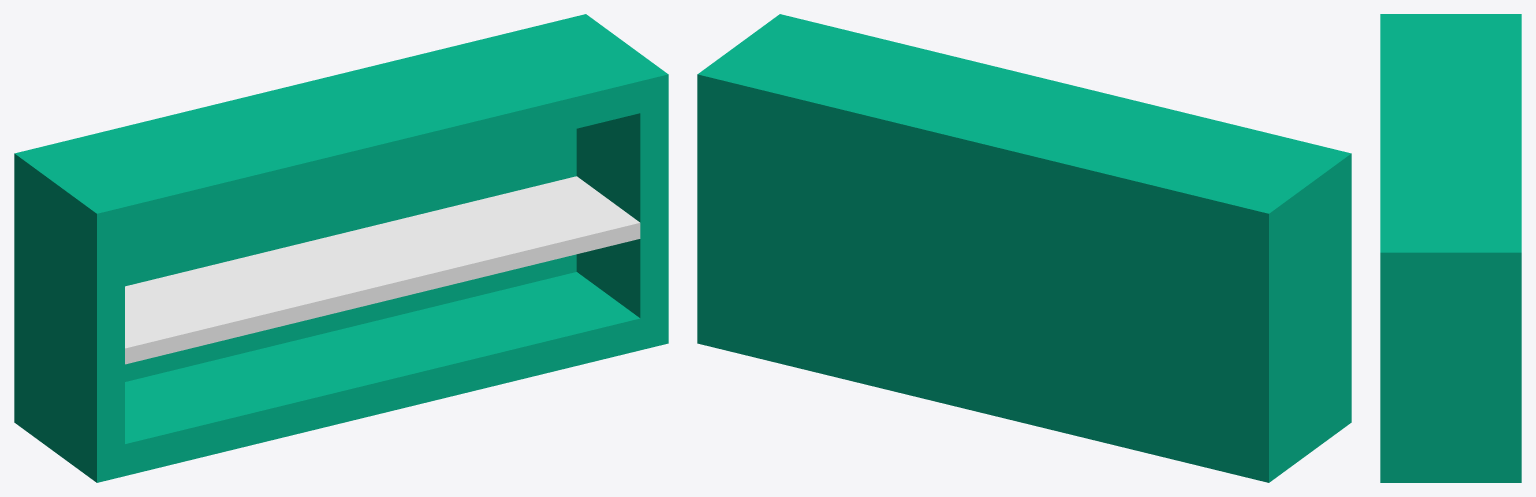
The model's file is cabinet2.fbx.
3 renders of one model, left to right at view 1: azimuth 30°, elevation 25°; view 2: azimuth 150°, elevation 25°; view 3: azimuth 270°, elevation 25°, orthographic. The views are drawn at different scales.
Visible parts, largest first — view 1: cabinet2; view 2: cabinet2; view 3: cabinet2.
Boxes of the visible parts, x1,y1,x2,y2 form: cabinet2: [14, 14, 668, 482]; cabinet2: [697, 14, 1351, 482]; cabinet2: [1380, 14, 1521, 482].
Bounding box in the file's own units: 400 × 180 × 100.
